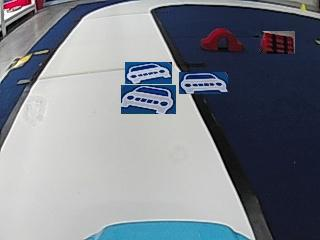bridge: (200, 26, 242, 51)
